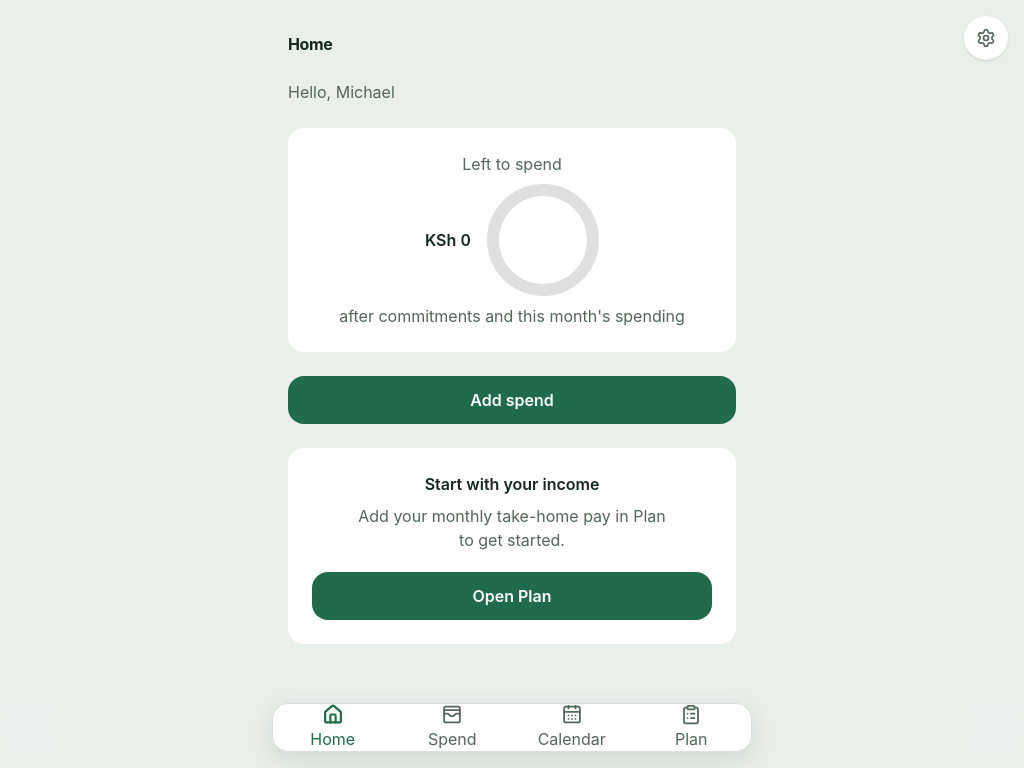
Scenario: v2 app shell › opens Plan from the Home first-run action
Click the button "Open Plan" at (512, 596), box x1=312 y1=572 x2=712 y2=620
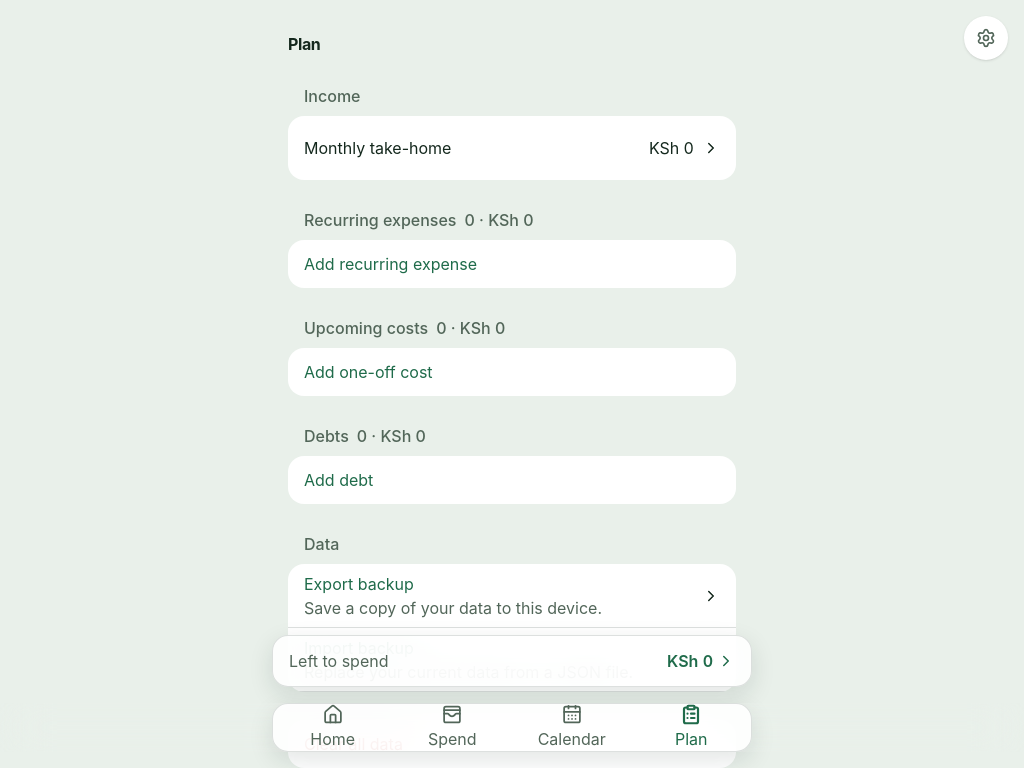
expect the heading "Plan" is shown: met, box x1=288 y1=34 x2=320 y2=54
